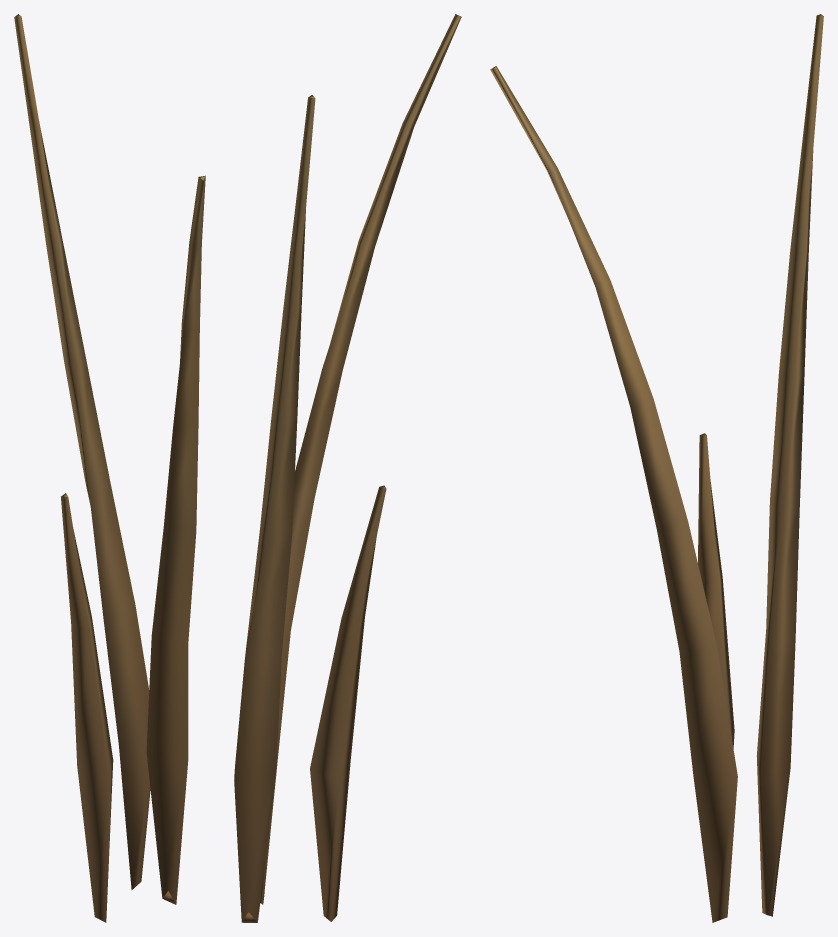
The model's file is trees-grasses-dry-grass-blades_v9.glb.
The picture shows the model from 3 angles, left to right: view 1: azimuth 30°, elevation 25°; view 2: azimuth 150°, elevation 25°; view 3: azimuth 270°, elevation 25°; orthographic projection.
Parts seen in each view (by area): view 1: Dry Grass Blades_v9; view 2: Dry Grass Blades_v9; view 3: Dry Grass Blades_v9.
Boxes of the visible parts, x1=… form: Dry Grass Blades_v9: x1=14, y1=14, x2=205, y2=922; Dry Grass Blades_v9: x1=234, y1=14, x2=461, y2=922; Dry Grass Blades_v9: x1=490, y1=14, x2=823, y2=922.
Size of the model in its own units: 0.0906 by 0.6 by 0.2114.
